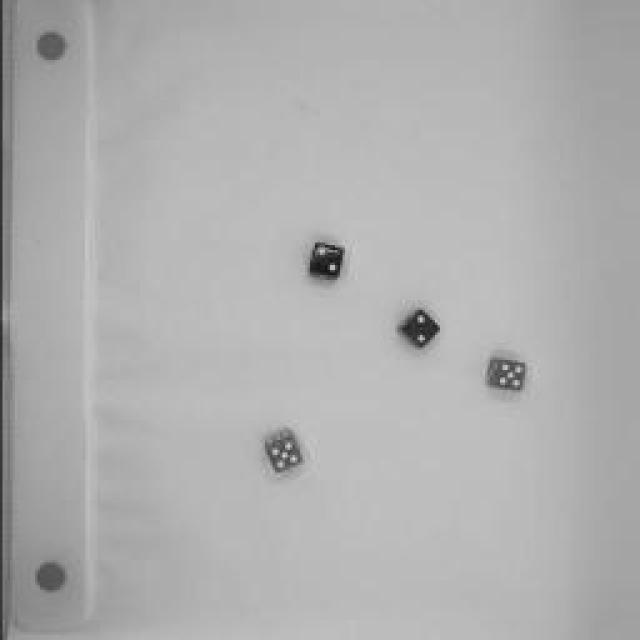dice_2: (302, 234, 352, 286), (392, 304, 442, 354)
dice_5: (478, 350, 532, 398), (259, 428, 306, 480)
